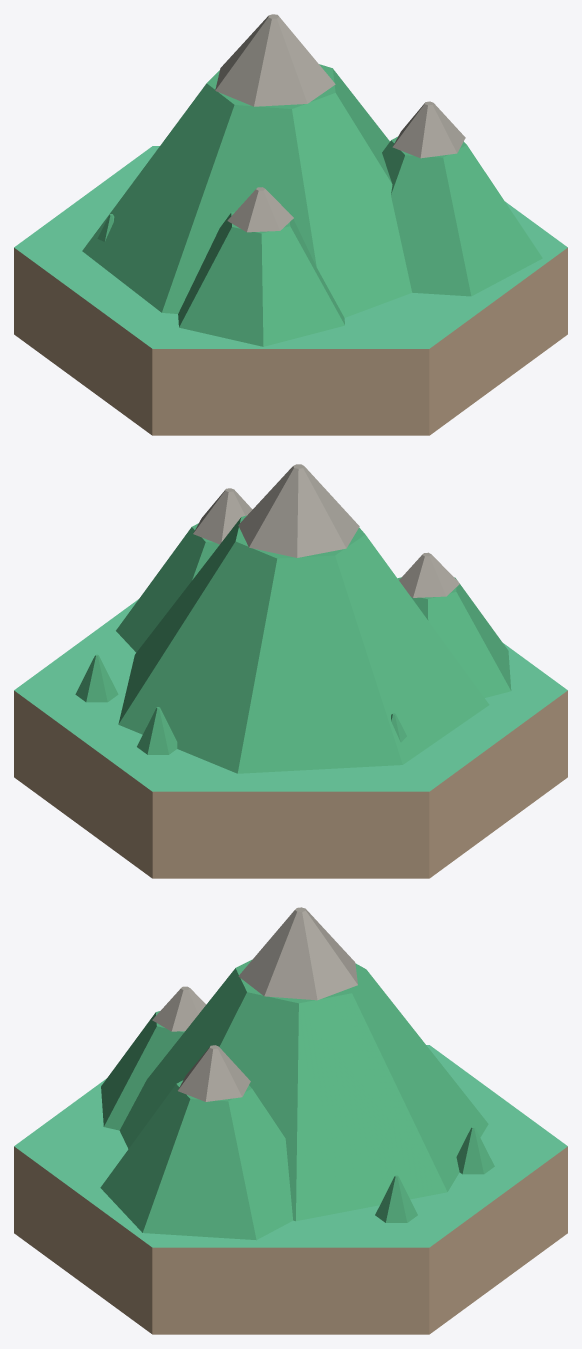
Rendered from mountain-small.glb.
3 views of the same model, one above another, from view 1: azimuth 30°, elevation 25°; view 2: azimuth 150°, elevation 25°; view 3: azimuth 270°, elevation 25° (orthographic).
Parts seen in each view (by area): view 1: base, main_slope, side1_slope, side2_slope, main_rock, side1_rock, side2_rock; view 2: base, main_slope, main_rock, side2_slope, side1_slope, side2_rock, side1_rock, tree0, tree1; view 3: base, main_slope, side1_slope, main_rock, side2_slope, side1_rock, side2_rock, tree0, tree1.
Boxes of the visible parts, x1,y1,x2,y2 form: base: (14, 146, 567, 435); main_slope: (82, 64, 412, 317); side1_slope: (382, 136, 542, 296); side2_slope: (178, 211, 344, 346); main_rock: (215, 14, 335, 106); side1_rock: (392, 101, 465, 158); side2_rock: (227, 187, 293, 232); base: (14, 599, 567, 878); main_slope: (118, 515, 489, 773); main_rock: (238, 464, 359, 557); side2_slope: (397, 577, 511, 697); side1_slope: (116, 523, 219, 652); side2_rock: (399, 552, 459, 597); side1_rock: (193, 488, 252, 544); tree0: (75, 654, 118, 702); tree1: (137, 707, 177, 754); base: (14, 1045, 567, 1334); main_slope: (119, 959, 488, 1221); side1_slope: (100, 1080, 292, 1240); main_rock: (238, 907, 357, 1000); side2_slope: (101, 1011, 184, 1130); side1_rock: (178, 1045, 250, 1101); side2_rock: (152, 986, 206, 1031); tree0: (375, 1175, 417, 1222); tree1: (456, 1126, 494, 1174).
Bounding box in the file's own units: 1 × 0.73 × 1.15.
